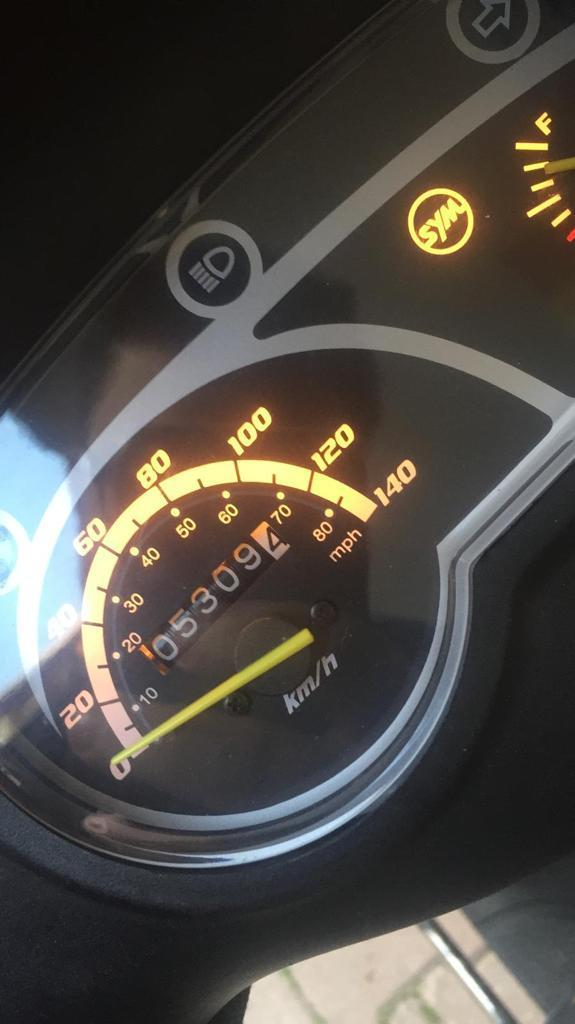0: (145, 633, 179, 661), (211, 563, 240, 591), (182, 516, 196, 530), (144, 546, 159, 559)
3: (184, 585, 223, 614)
4: (259, 522, 290, 554), (138, 553, 153, 568)
5: (168, 607, 199, 637), (174, 523, 188, 538)
9: (230, 540, 261, 570)
odometer: (136, 516, 295, 679)
